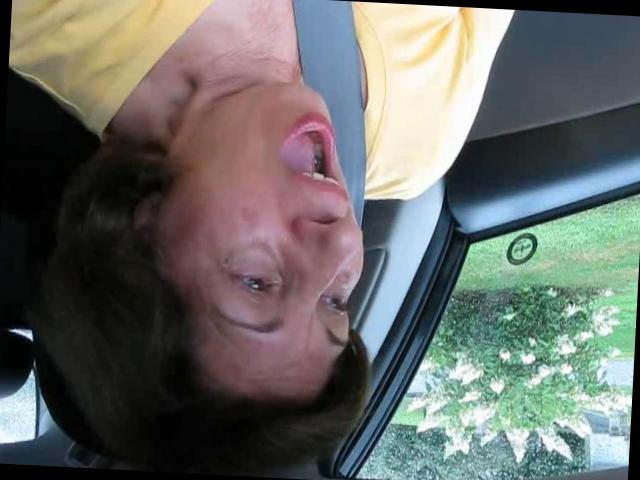eye_open: (218, 260, 284, 300), (320, 288, 354, 316)
face: (180, 74, 380, 374)
mouth_open: (272, 109, 352, 196)
